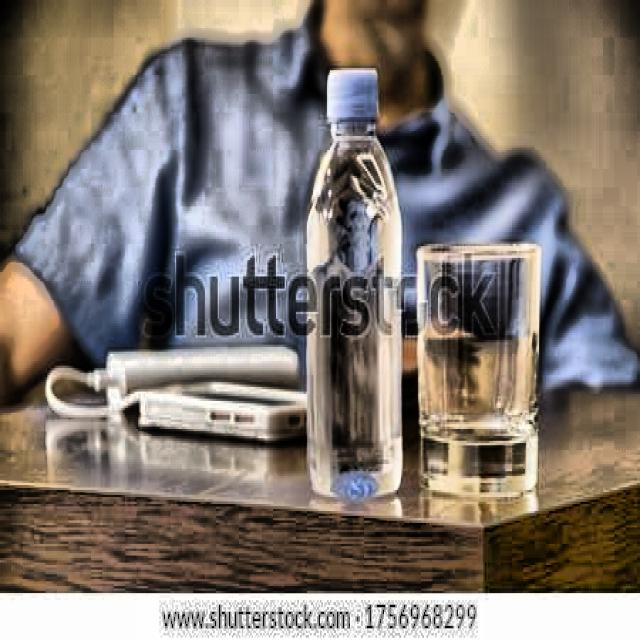Bottles: (294, 50, 409, 515)
